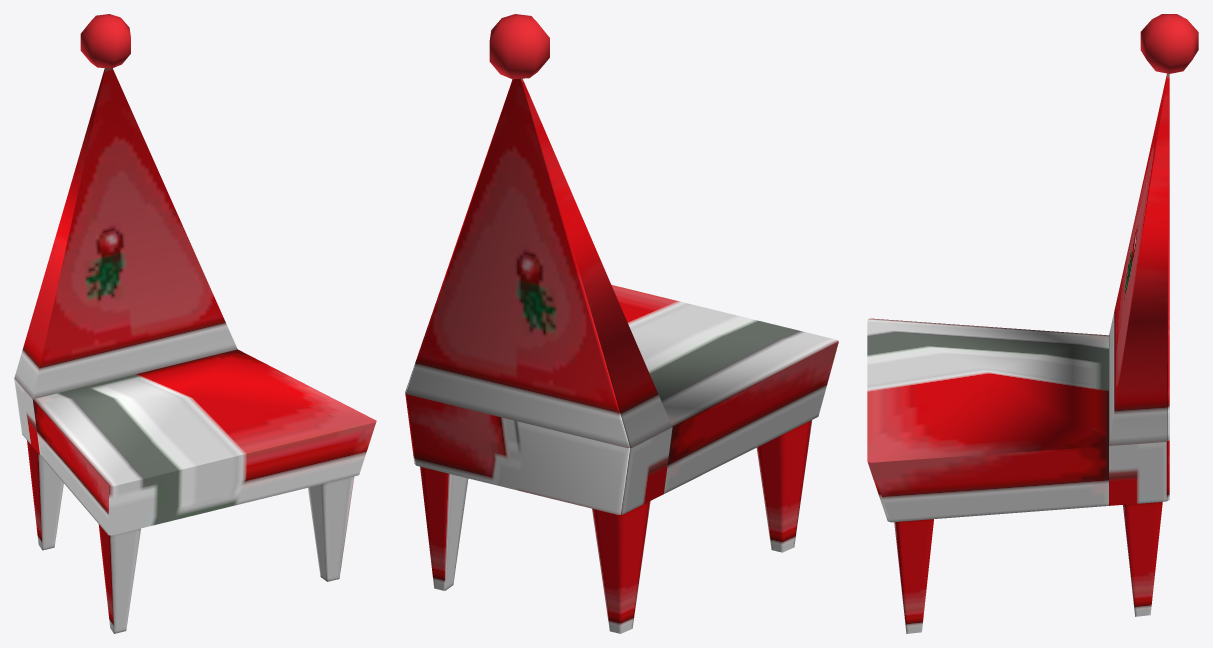
Rendered from int_xms_chairS.dae.
3 renders of one model, left to right at view 1: azimuth 30°, elevation 25°; view 2: azimuth 150°, elevation 25°; view 3: azimuth 270°, elevation 25°, orthographic. The views are drawn at different scales.
Visible parts, largest first — view 1: int_xms_chairS; view 2: int_xms_chairS; view 3: int_xms_chairS.
Boxes of the visible parts, left/top/right/bottom form: int_xms_chairS: left=14, top=14, right=376, bottom=633; int_xms_chairS: left=405, top=14, right=838, bottom=633; int_xms_chairS: left=867, top=14, right=1198, bottom=633.
Bounding box in the file's own units: 27.12 × 48.77 × 26.3.
1 material, 1 textured.
